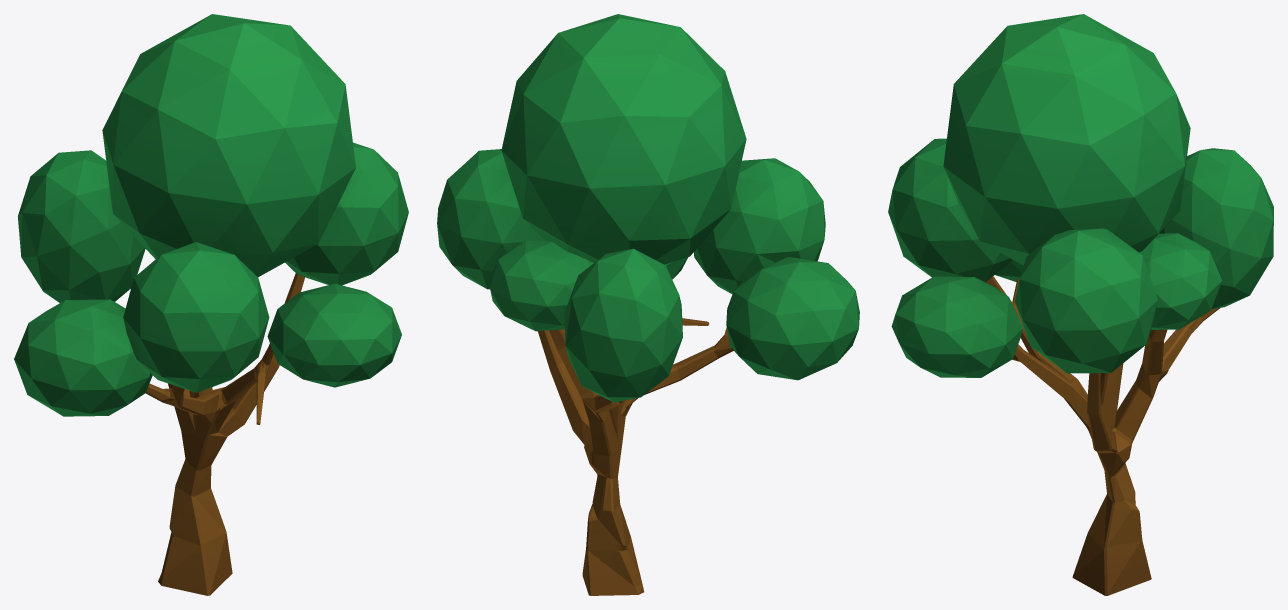
Rendered from tree_cluster.glb.
The picture shows the model from 3 angles, left to right: view 1: azimuth 30°, elevation 25°; view 2: azimuth 150°, elevation 25°; view 3: azimuth 270°, elevation 25°; orthographic projection. The views are drawn at different scales.
Visible parts, largest first — view 1: tree_cluster; view 2: tree_cluster; view 3: tree_cluster.
Part boxes in pixels (bbox=[...]): tree_cluster: bbox=[14, 14, 408, 595]; tree_cluster: bbox=[437, 14, 859, 595]; tree_cluster: bbox=[888, 14, 1273, 595].
Size of the model in its own units: 2.87 by 3.9 by 2.42.
Materials: 1 (1 with a texture image).
